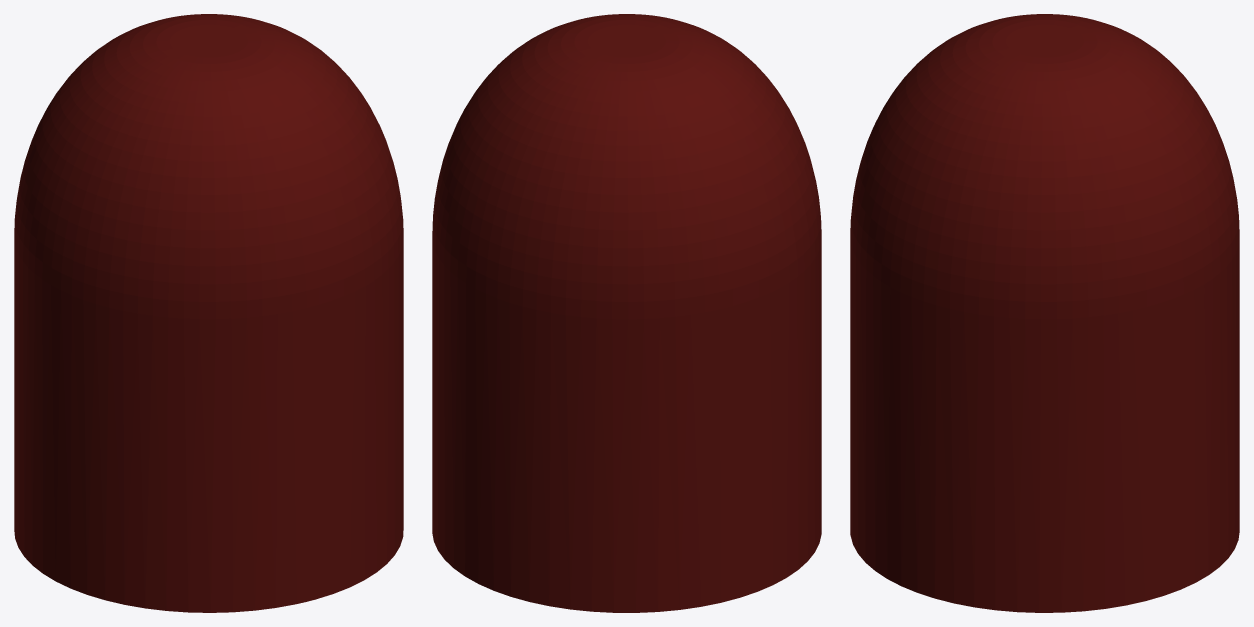
File: apagado.glb
3 views of the same model, side by side, from view 1: azimuth 30°, elevation 25°; view 2: azimuth 150°, elevation 25°; view 3: azimuth 270°, elevation 25° (orthographic).
Parts seen in each view (by area): view 1: LED; view 2: LED; view 3: LED.
Part boxes in pixels (x1,y1,x2,y2): LED: [14, 14, 403, 612]; LED: [432, 14, 821, 612]; LED: [850, 14, 1239, 612].
Bounding box in the file's own units: 2.06 × 2.85 × 2.06.
